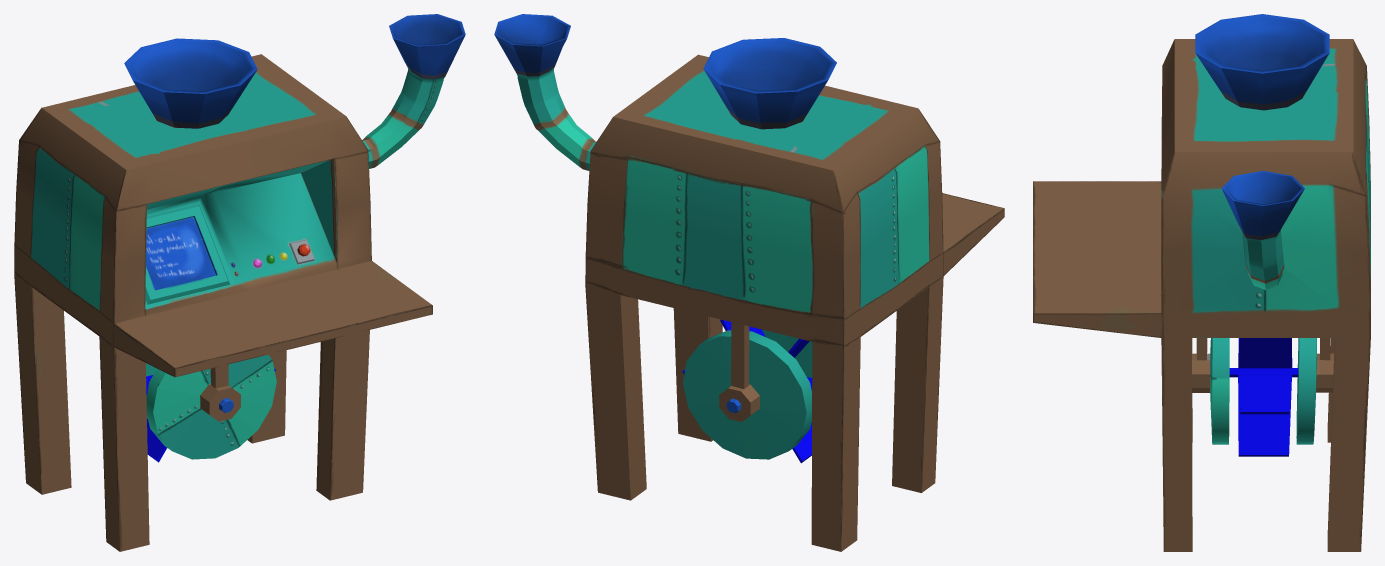
The model's file is nut-o-matic_idle_01.fbx.
3 renders of one model, left to right at view 1: azimuth 30°, elevation 25°; view 2: azimuth 150°, elevation 25°; view 3: azimuth 270°, elevation 25°, orthographic. The views are drawn at different scales.
Visible parts, largest first — view 1: pCylinderShape12; view 2: pCylinderShape12, pCylinder14; view 3: pCylinderShape12, pCylinder14.
Part boxes in pixels (bbox=[...]): pCylinderShape12: bbox=[14, 14, 465, 551]; pCylinderShape12: bbox=[494, 14, 1004, 551]; pCylinder14: bbox=[682, 319, 812, 463]; pCylinderShape12: bbox=[1033, 14, 1370, 551]; pCylinder14: bbox=[1229, 338, 1298, 456].
Size of the model in its own units: 23.25 by 23.68 by 16.33.
2 materials, 1 textured.
